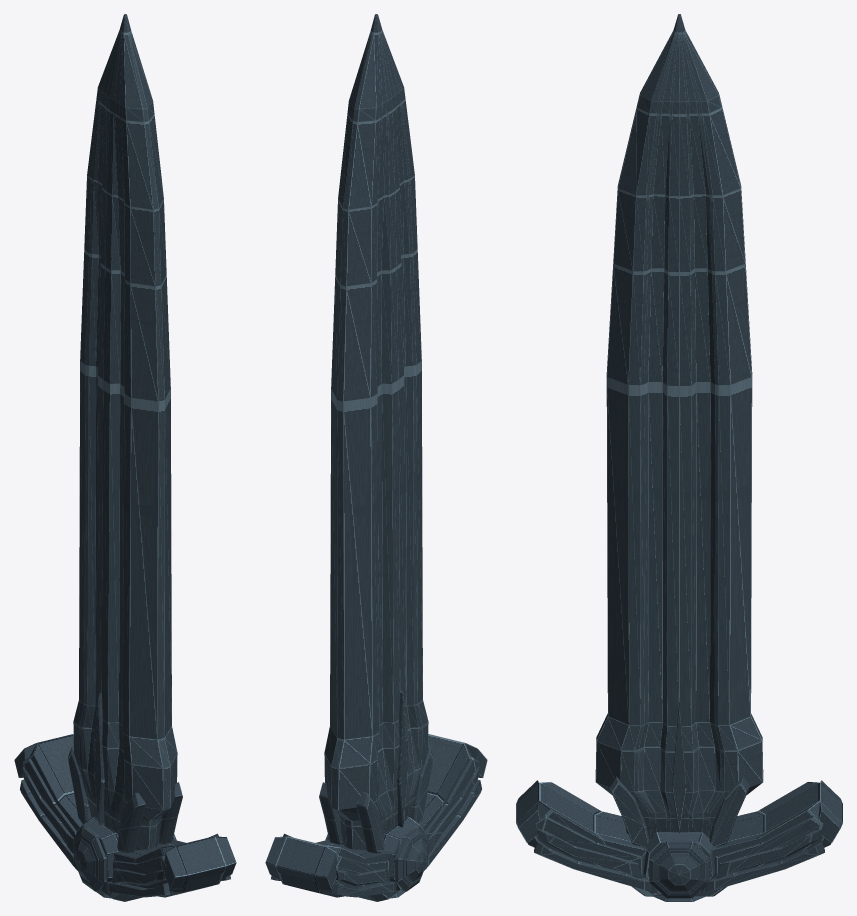
The model's file is workpiece_jindan_jinwu_sword_quenched.obj.
The picture shows the model from 3 angles, left to right: view 1: azimuth 30°, elevation 25°; view 2: azimuth 150°, elevation 25°; view 3: azimuth 270°, elevation 25°; orthographic projection.
Parts seen in each view (by area): view 1: geometry; view 2: geometry; view 3: geometry.
Boxes of the visible parts, box(x1,y1,x2,y2) form: geometry: box(14, 14, 236, 901); geometry: box(265, 14, 487, 901); geometry: box(516, 14, 842, 901).
Size of the model in its own units: 0.169 by 1.52 by 0.5163.
